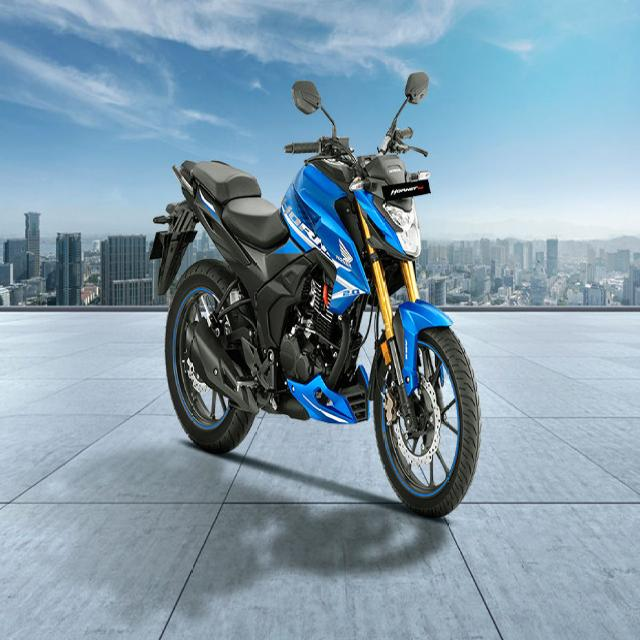motorcycle: (151, 71, 481, 518)
